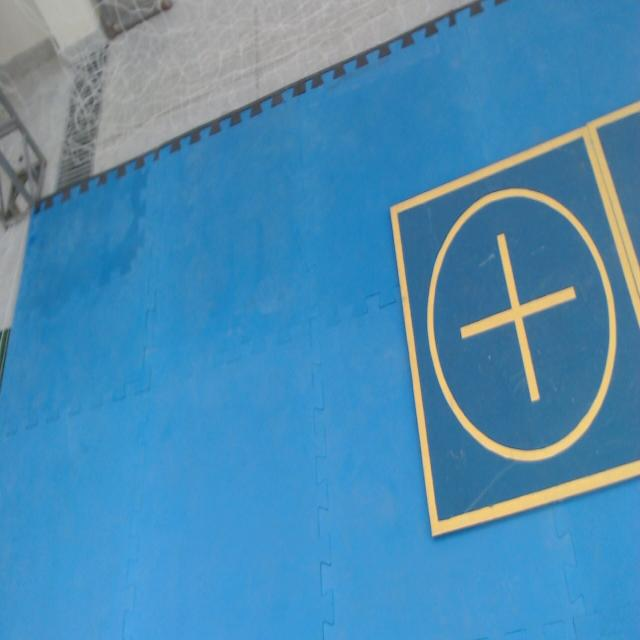base_pouso: (391, 124, 640, 543), (591, 100, 640, 298)
